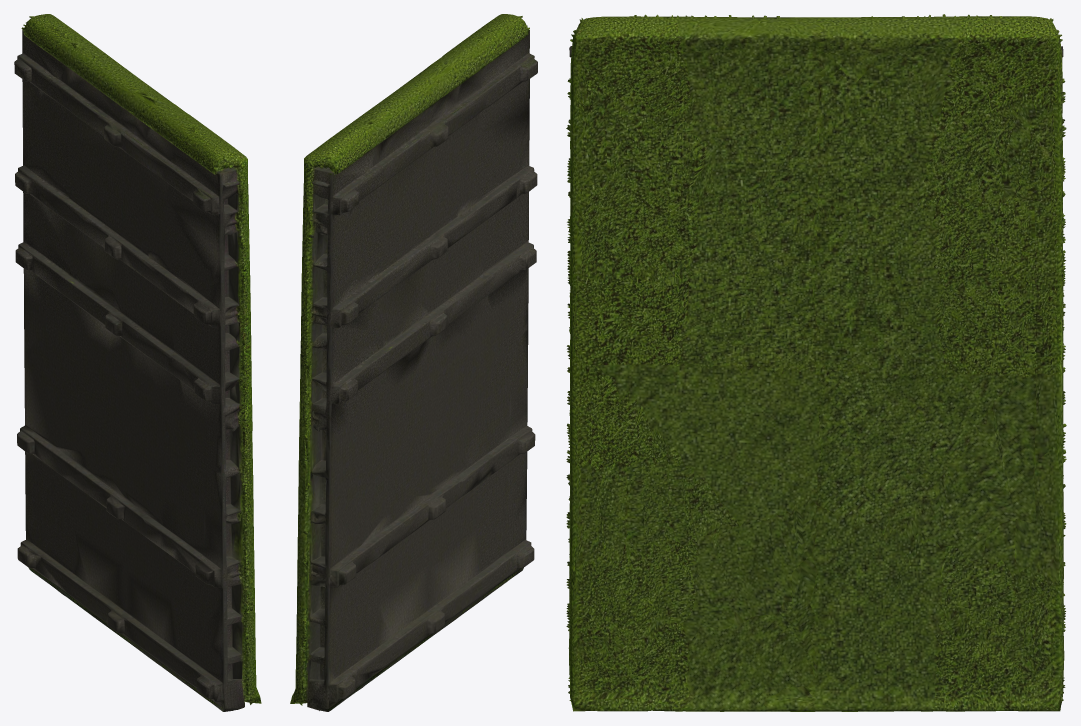
The model's file is pnl_turf.glb.
3 views of the same model, side by side, from view 1: azimuth 30°, elevation 25°; view 2: azimuth 150°, elevation 25°; view 3: azimuth 270°, elevation 25° (orthographic). The views are drawn at different scales.
Parts seen in each view (by area): view 1: tripo_node_8234d077-fc7a-4c50-81f5-bc581e07ed67; view 2: tripo_node_8234d077-fc7a-4c50-81f5-bc581e07ed67; view 3: tripo_node_8234d077-fc7a-4c50-81f5-bc581e07ed67.
Boxes of the visible parts, left/top/right/bottom form: tripo_node_8234d077-fc7a-4c50-81f5-bc581e07ed67: left=14, top=14, right=261, bottom=711; tripo_node_8234d077-fc7a-4c50-81f5-bc581e07ed67: left=290, top=14, right=537, bottom=711; tripo_node_8234d077-fc7a-4c50-81f5-bc581e07ed67: left=566, top=14, right=1066, bottom=711.
Size of the model in its own units: 0.0911 by 0.9 by 0.5981.
Materials: 1 (1 with a texture image).
